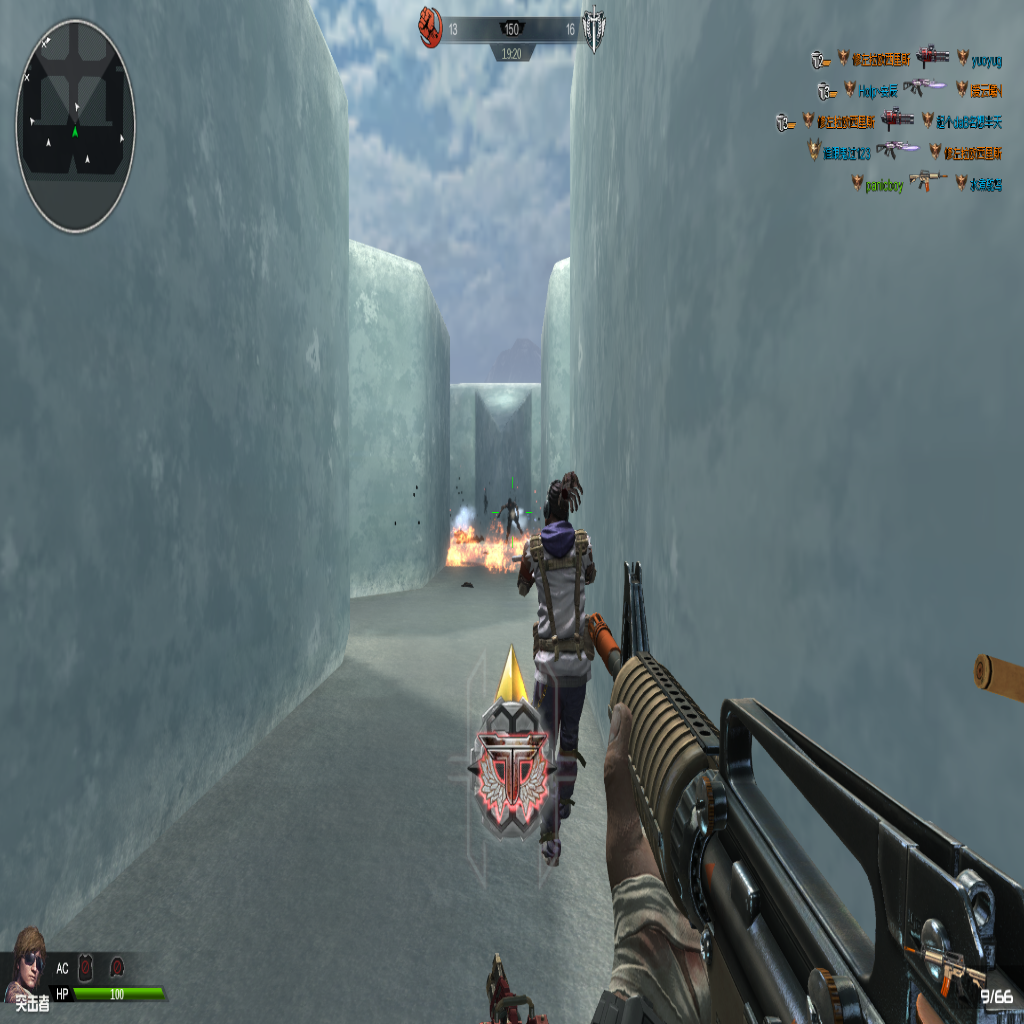tt: (516, 482, 602, 849)
